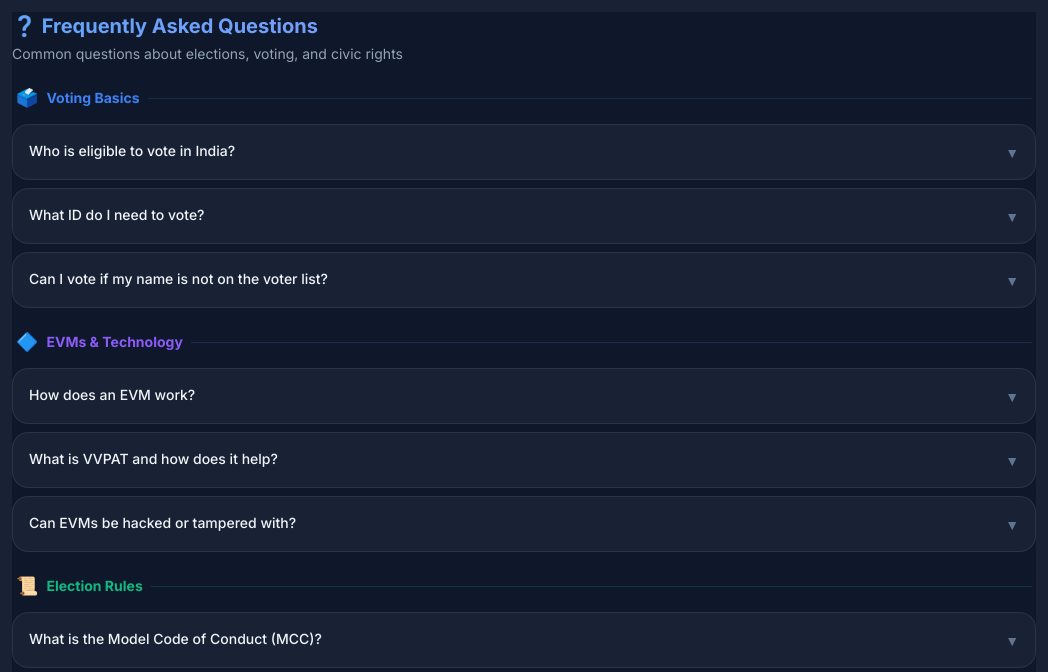
Test: FAQSection – Accordion Open/Close › opening one accordion closes the previously open one
Click the button "Who is eligible to vote in India? ▼" at (132, 150), box 12,124 -> 1036,180
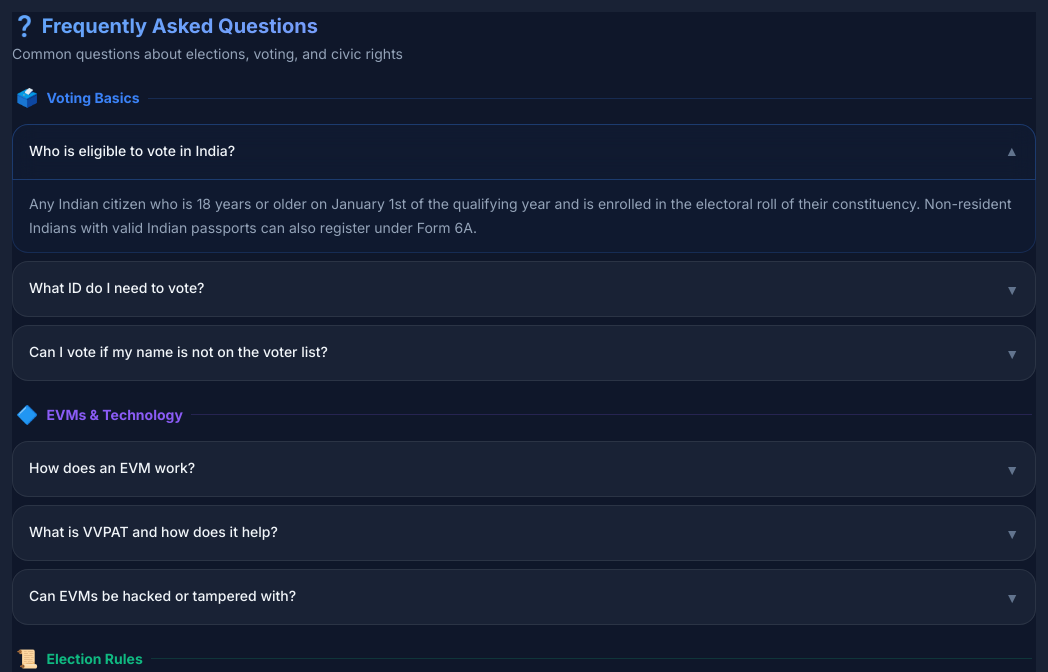
Now the text "Any Indian citizen who is 18 years or older" is shown, box 29,195 -> 1012,236
Click the button "What ID do I need to vote? ▼" at (117, 287), box 12,261 -> 1036,317
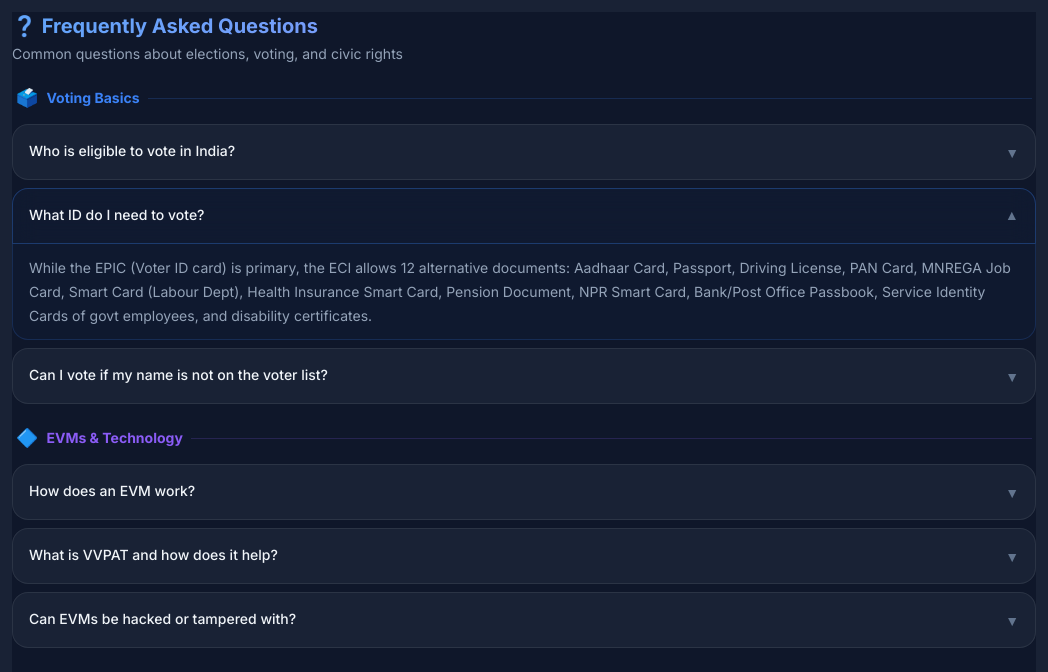
Now the text "Any Indian citizen who is 18 years or older" is gone
Now the text "EPIC (Voter ID card) is primary" is shown, box 29,259 -> 1011,324
